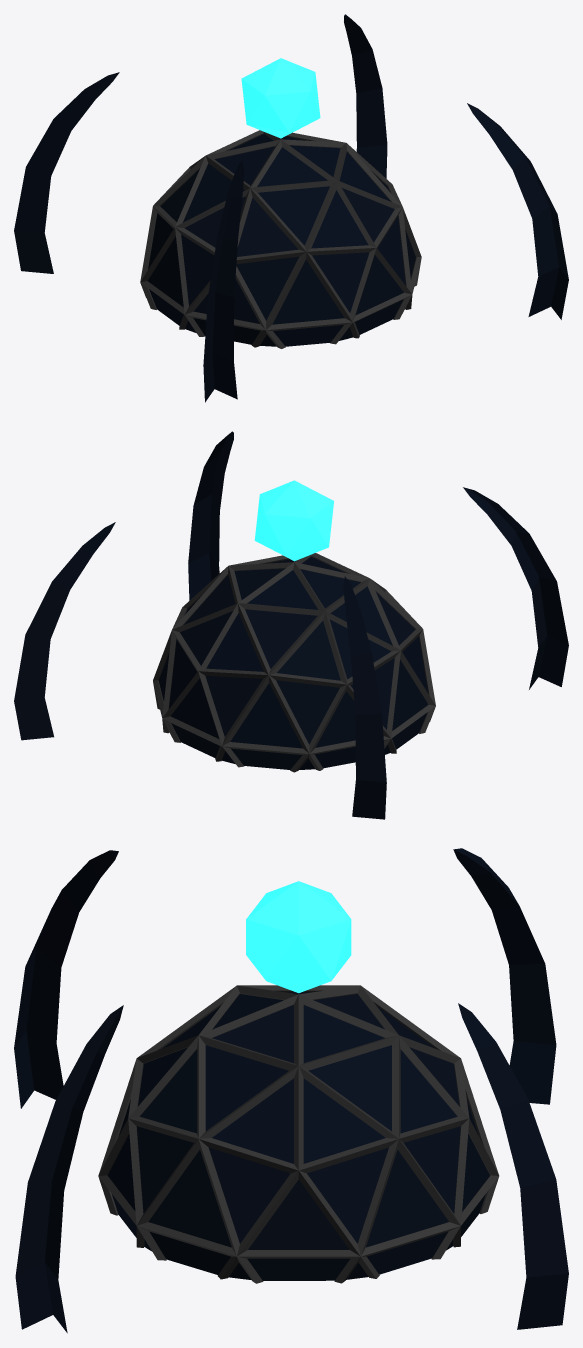
The model's file is MO_Dome.fbx.
3 renders of one model, top to bottom at view 1: azimuth 30°, elevation 25°; view 2: azimuth 150°, elevation 25°; view 3: azimuth 270°, elevation 25°, orthographic. The views are drawn at different scales.
Visible parts, largest first — view 1: dome, tentecal.001, boom; view 2: dome, tentecal.001, boom; view 3: dome, tentecal.001, boom.
Boxes of the visible parts, x1,y1,x2,y2 form: dome: (140, 130, 421, 348); tentecal.001: (14, 14, 568, 402); boom: (241, 58, 320, 138); dome: (153, 553, 435, 772); tentecal.001: (14, 431, 568, 819); boom: (254, 480, 333, 561); dome: (98, 985, 499, 1283); tentecal.001: (14, 848, 568, 1333); boom: (246, 881, 351, 993).
Size of the model in its own units: 63.06 by 37.91 by 58.57.
